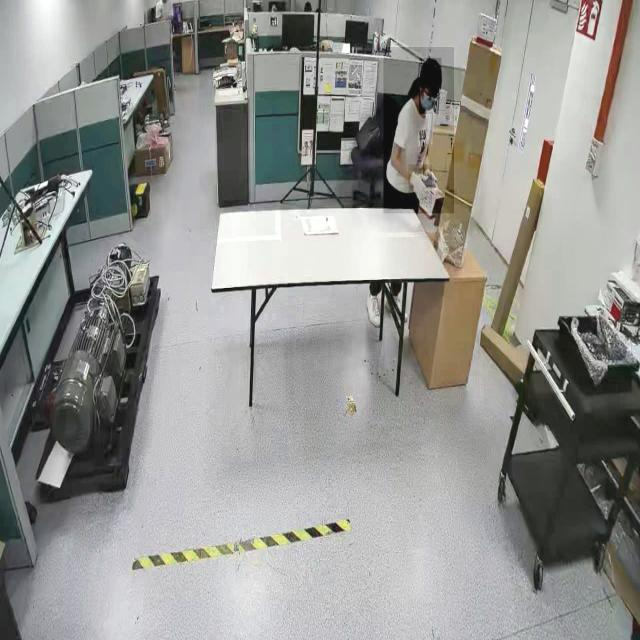face_mask: (419, 79, 439, 114)
hand_glove: (408, 164, 432, 206)
head_nohelmet: (420, 58, 442, 78)
person: (383, 47, 454, 214)
shoes: (365, 285, 383, 329)
